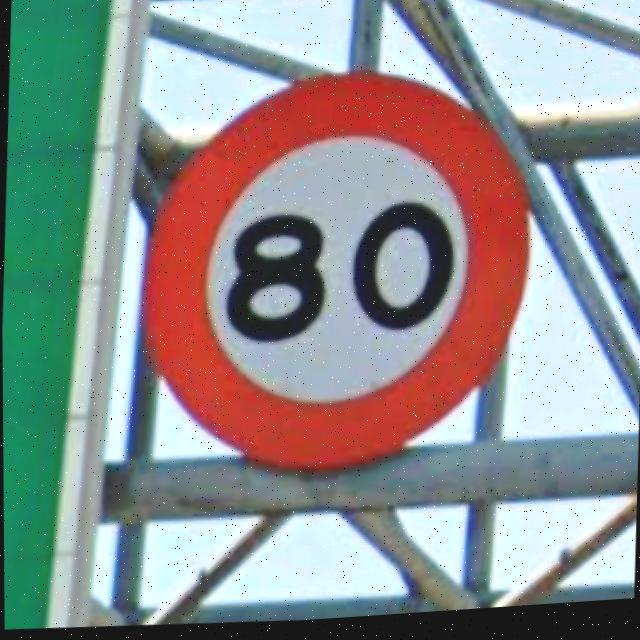max80: (130, 54, 541, 492)
